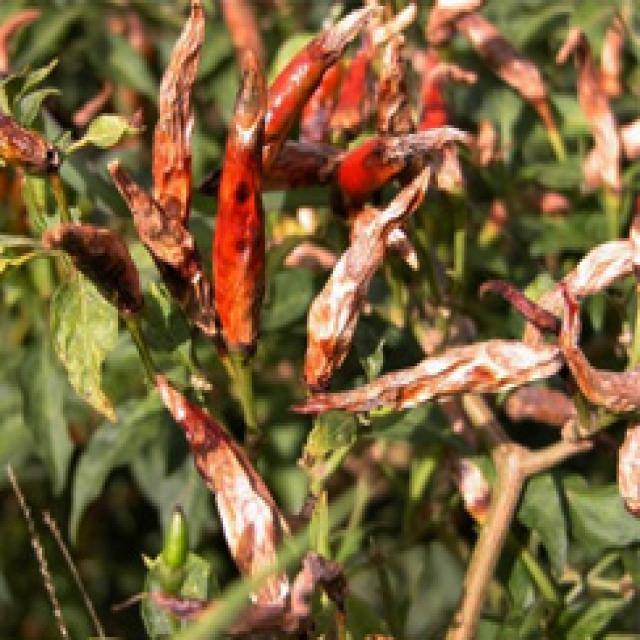Chili_anthracnose: (146, 358, 329, 622), (204, 36, 287, 410), (305, 314, 560, 425), (114, 172, 234, 345)
